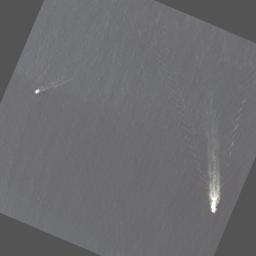boat: (208, 199, 218, 212), (34, 86, 40, 94)
